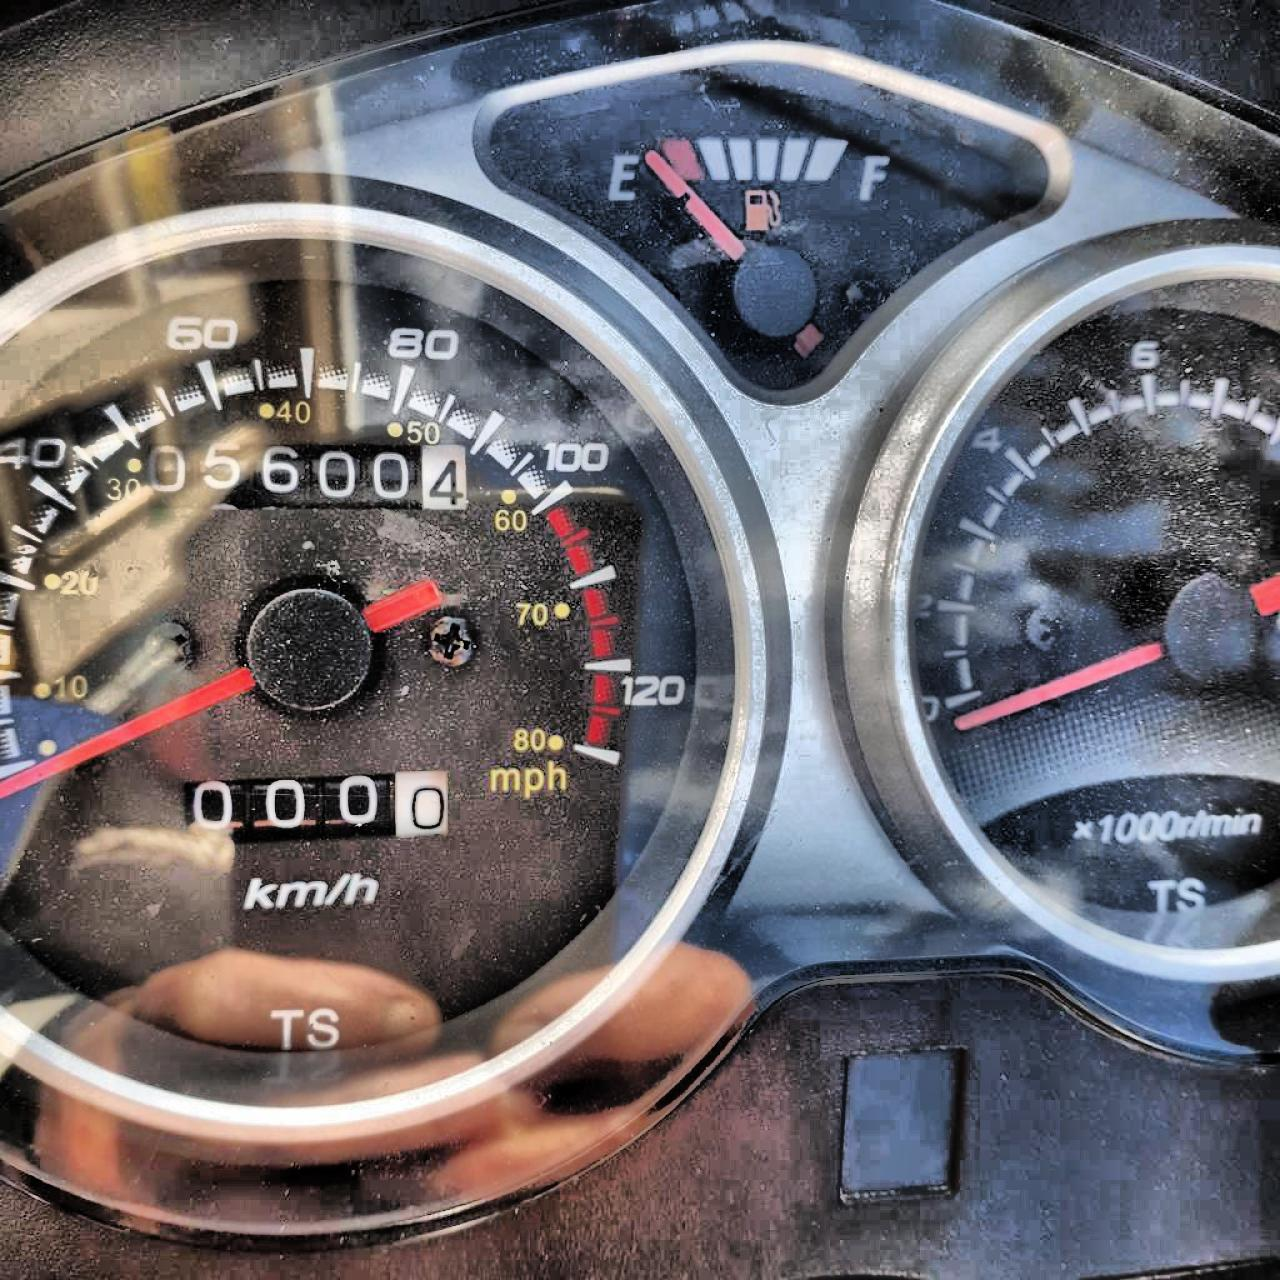0: (145, 443, 186, 492), (315, 450, 355, 498), (372, 450, 409, 499)
4: (428, 457, 463, 504)
5: (200, 441, 240, 490)
6: (259, 445, 299, 492)
odometer: (136, 437, 470, 512)
